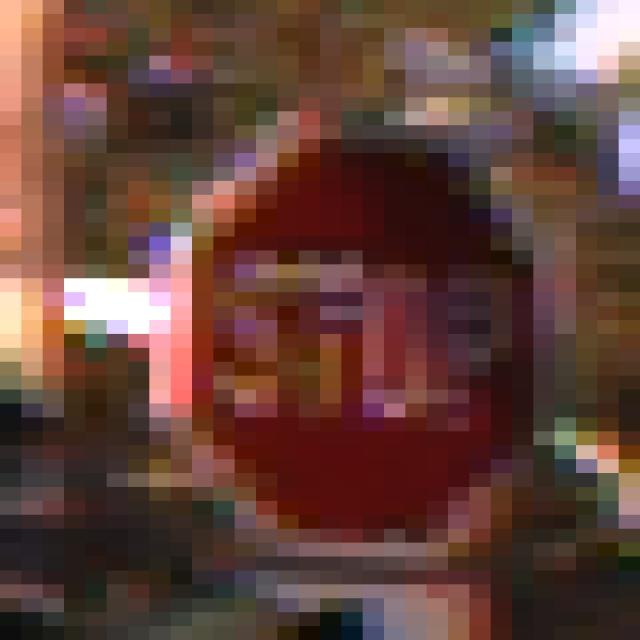STOP: (129, 71, 534, 558)
